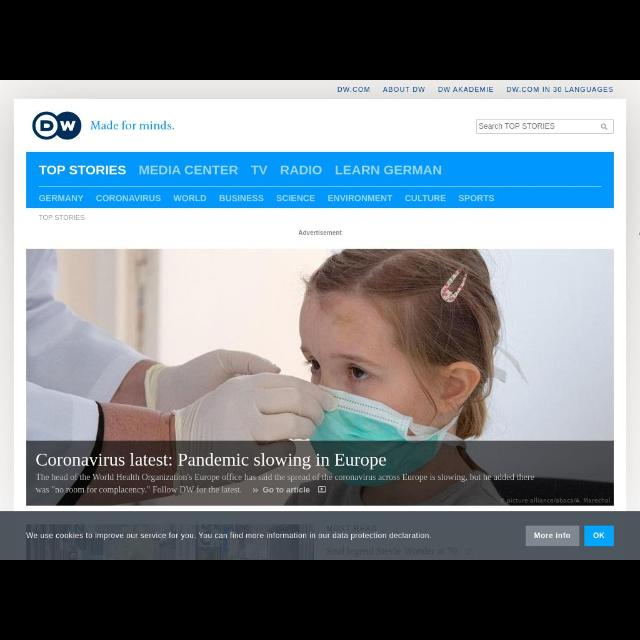icon: (600, 124, 608, 130)
iframe: (26, 230, 614, 504)
image: (32, 112, 174, 140)
input: (477, 120, 613, 132)
multitab: (26, 154, 614, 208)
text: (26, 532, 432, 542), (140, 165, 238, 175), (336, 166, 442, 174), (40, 166, 126, 174), (507, 87, 613, 93), (96, 194, 162, 202), (328, 194, 392, 202), (480, 123, 554, 129), (280, 165, 322, 175), (40, 194, 84, 202), (220, 194, 264, 202), (438, 87, 494, 93), (276, 194, 316, 202), (406, 194, 446, 202), (459, 194, 495, 202), (534, 532, 570, 540), (174, 194, 206, 202), (383, 87, 425, 93), (338, 87, 370, 93), (39, 216, 85, 220), (250, 166, 268, 174), (594, 532, 604, 538)
textbutton: (526, 526, 580, 546), (584, 526, 614, 546)
